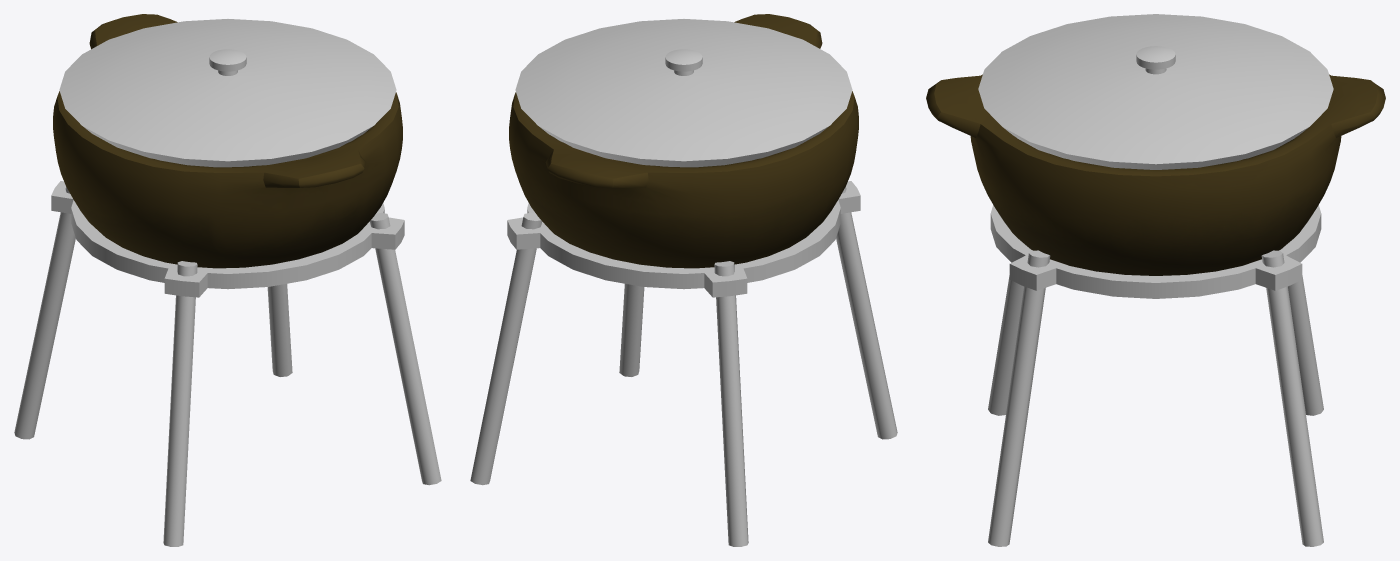
File: Казан.fbx
3 renders of one model, left to right at view 1: azimuth 30°, elevation 25°; view 2: azimuth 150°, elevation 25°; view 3: azimuth 270°, elevation 25°, orthographic. The views are drawn at different scales.
Visible parts, largest first — view 1: Cylinder, Cube, Cylinder.001; view 2: Cylinder, Cube, Cylinder.001; view 3: Cylinder, Cube, Cylinder.001.
Boxes of the visible parts, bbox=[...] form: Cylinder: bbox=[59, 19, 396, 167]; Cube: bbox=[53, 14, 402, 268]; Cylinder.001: bbox=[14, 181, 441, 546]; Cylinder: bbox=[515, 19, 852, 167]; Cube: bbox=[509, 14, 858, 268]; Cylinder.001: bbox=[470, 181, 897, 546]; Cylinder: bbox=[978, 14, 1333, 169]; Cube: bbox=[926, 74, 1385, 275]; Cylinder.001: bbox=[988, 205, 1323, 546].
Size of the model in its own units: 170 by 219 by 214.
